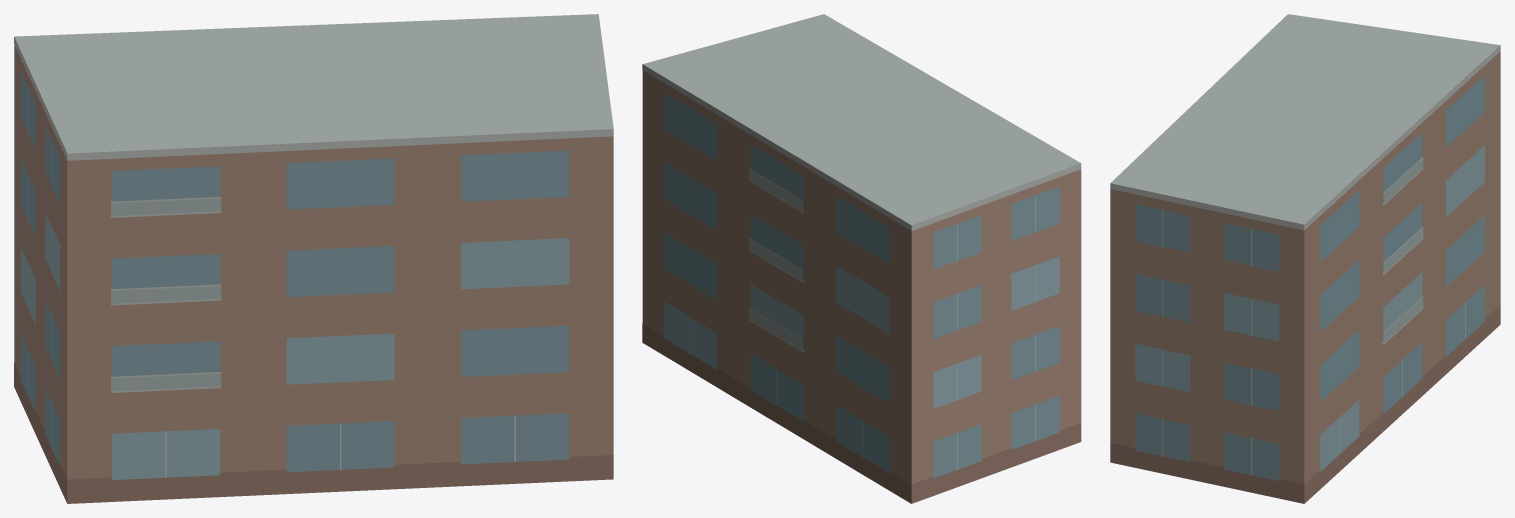
The model's file is survey-upis-32784091.glb.
3 renders of one model, left to right at view 1: azimuth 30°, elevation 25°; view 2: azimuth 150°, elevation 25°; view 3: azimuth 270°, elevation 25°, orthographic. The views are drawn at different scales.
Visible parts, largest first — view 1: survey-upis-32784091.tmp; view 2: survey-upis-32784091.tmp; view 3: survey-upis-32784091.tmp.
Boxes of the visible parts, <box> form: survey-upis-32784091.tmp: <box>14,14,613,503</box>; survey-upis-32784091.tmp: <box>642,14,1081,503</box>; survey-upis-32784091.tmp: <box>1110,14,1500,503</box>.
Bounding box in the file's own units: 19.1 × 11.8 × 14.96.
